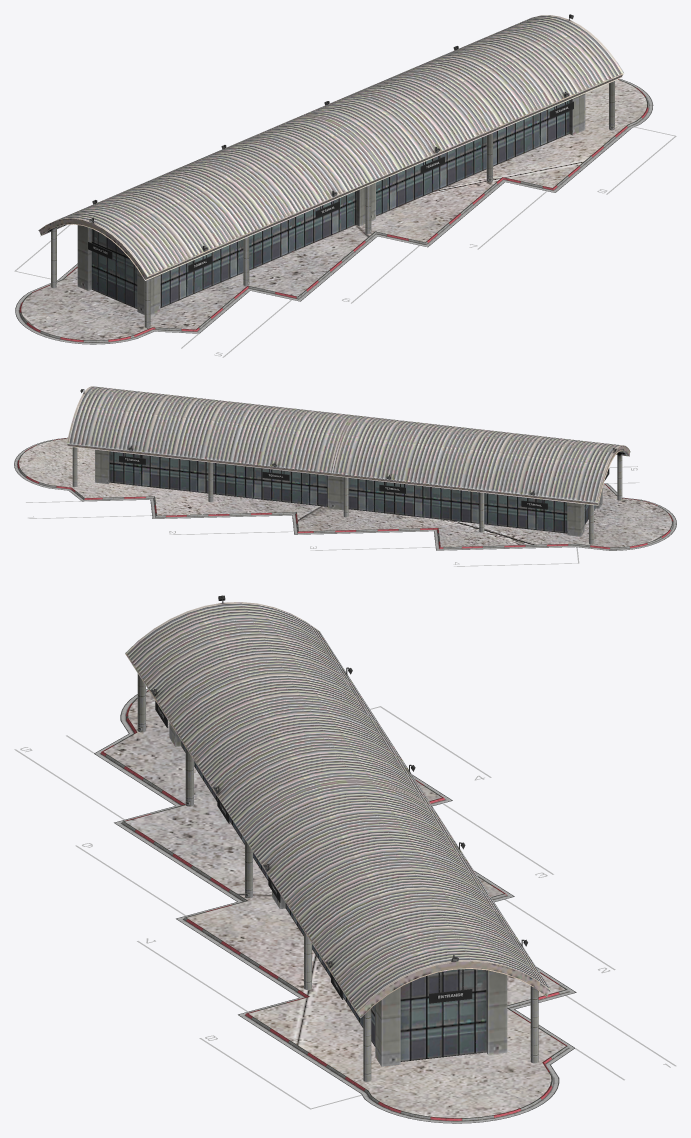
The picture shows the model from 3 angles, top to bottom: view 1: azimuth 30°, elevation 25°; view 2: azimuth 150°, elevation 25°; view 3: azimuth 270°, elevation 25°; orthographic projection. The views are drawn at different scales.
Parts seen in each view (by area): view 1: patch 20, Object327, markings; view 2: patch 20, Object327, markings; view 3: patch 20, Object327, markings.
Part boxes in pixels (bbox=[...]): patch 20: bbox=[38, 14, 624, 327]; Object327: bbox=[15, 79, 653, 344]; markings: bbox=[14, 127, 676, 357]; patch 20: bbox=[66, 386, 630, 544]; Object327: bbox=[14, 437, 676, 550]; markings: bbox=[26, 466, 639, 566]; patch 20: bbox=[125, 595, 551, 1081]; Object327: bbox=[94, 689, 576, 1123]; markings: bbox=[14, 706, 676, 1109].
Size of the model in its own units: 654 by 82.84 by 409.
